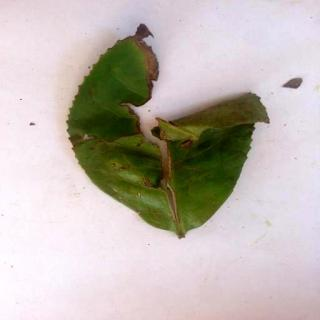Brown Blight: (69, 23, 273, 236)
